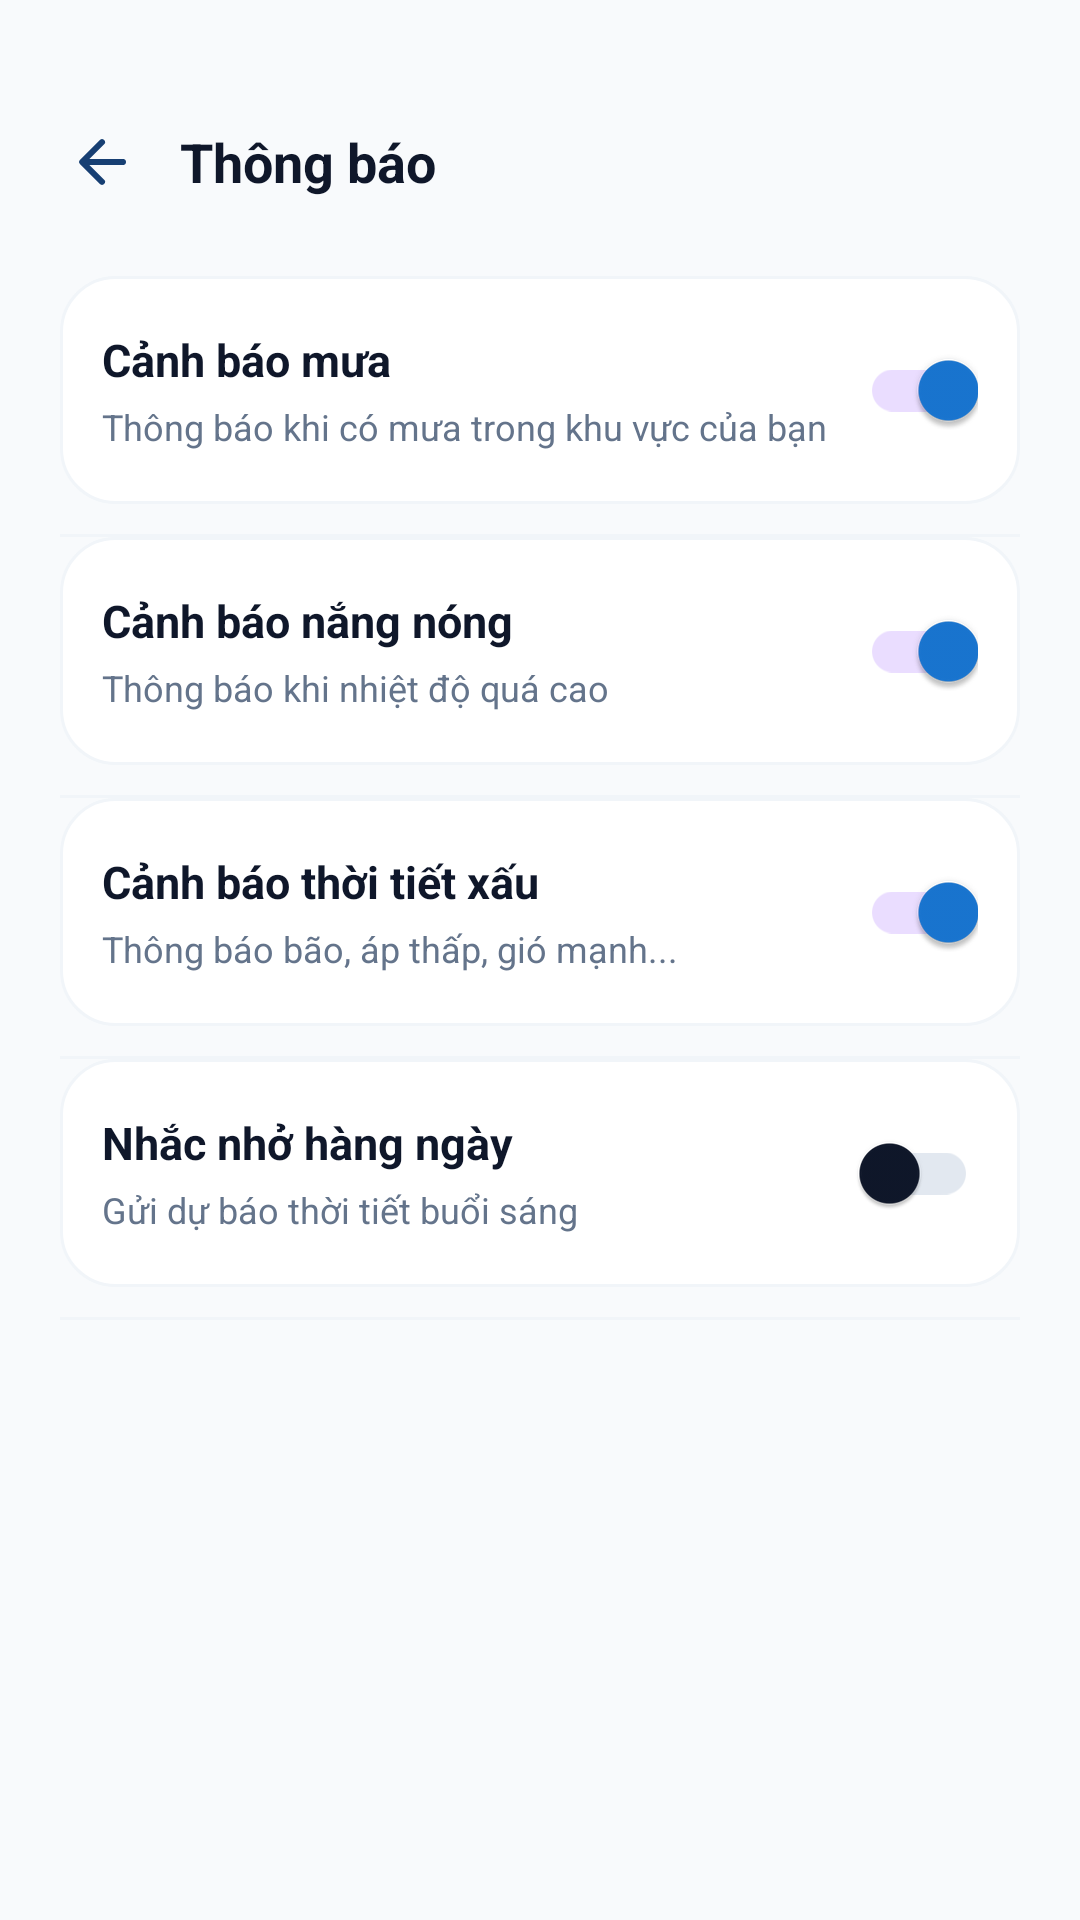

Screen size 1080×1920. Icon name, then its center in pixels as (x=x, y=y):
Back: (x=102, y=162)
